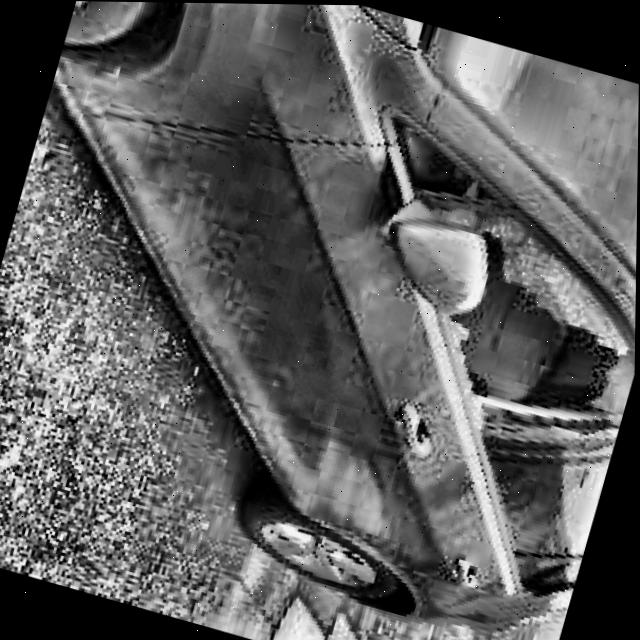glass_shatter: (449, 287, 636, 445)
